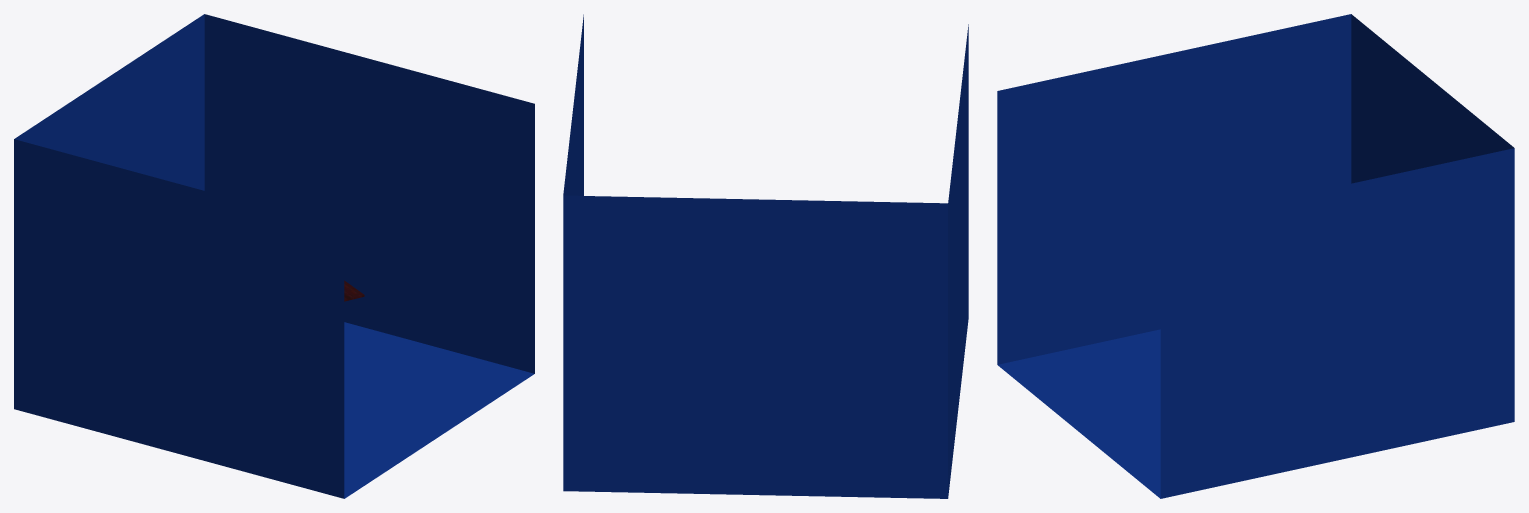
3 views of the same model, side by side, from view 1: azimuth 30°, elevation 25°; view 2: azimuth 150°, elevation 25°; view 3: azimuth 270°, elevation 25° (orthographic). The views are drawn at different scales.
Parts seen in each view (by area): view 1: Cube; view 2: Cube; view 3: Cube.
Part boxes in pixels (box(x1,y1,x2,y2)): Cube: box(14, 14, 534, 498); Cube: box(563, 14, 968, 498); Cube: box(997, 14, 1514, 498).
Size of the model in its own units: 3.26 by 1.97 by 3.38.
Materials: 5 (4 with a texture image).
